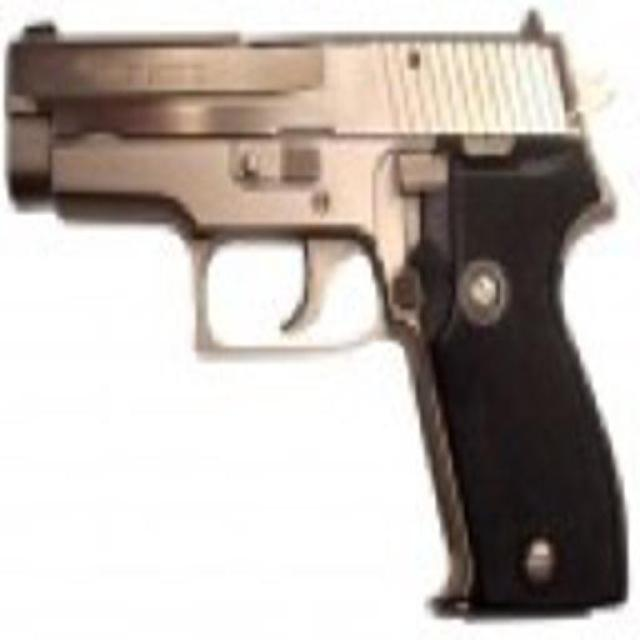pistol: (8, 15, 624, 617)
